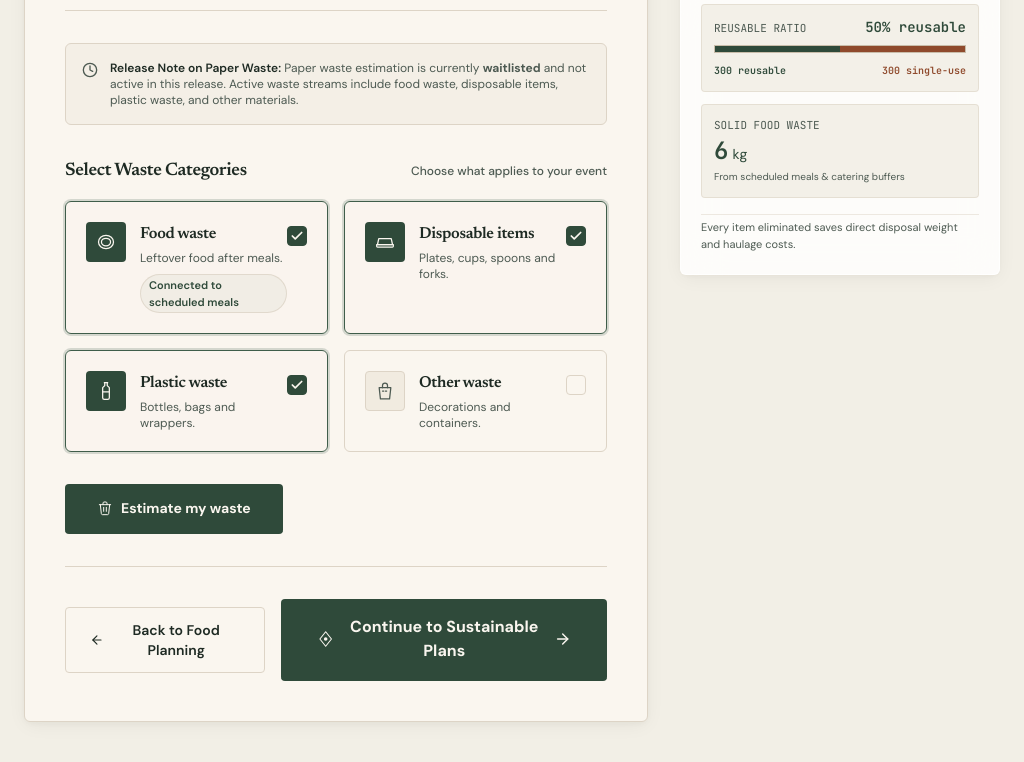
it: Waste Planning Page (Step 5 - Simplified MVP UX) › displays the required disclaimer note
(page scrolled)
Click the button "Estimate my waste" at (174, 509), box [65,484,283,534]
(page scrolled)
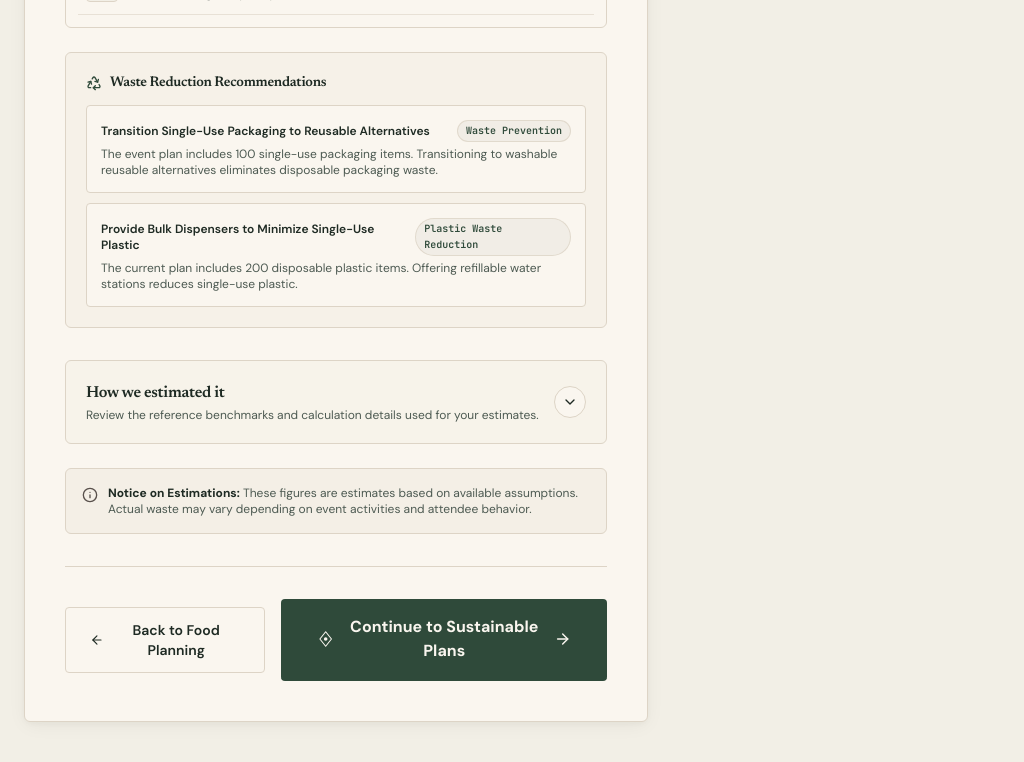
Expected: the text "Notice on Estimations:" is shown, [108,485,240,501]
Expected: the text "These figures are estimates based on available assumptions. Actual waste may vary depending on event activities and att" is shown, [108,485,578,517]
